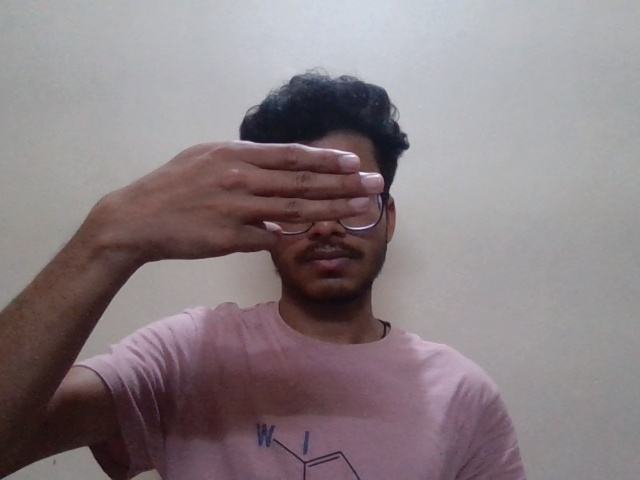wednesday: (80, 140, 412, 252)
